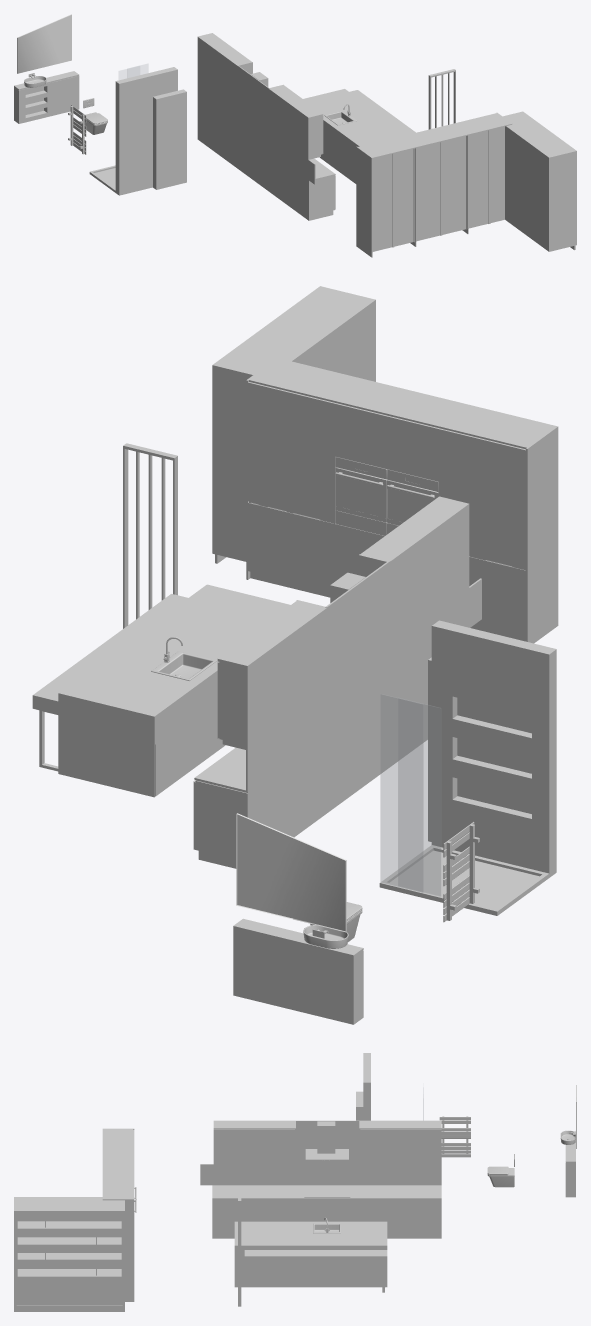
The model's file is EB03__Storey__GroundFloor__ProposedFixtures__MeshModel__.glb.
3 renders of one model, top to bottom at view 1: azimuth 30°, elevation 25°; view 2: azimuth 150°, elevation 25°; view 3: azimuth 270°, elevation 25°, orthographic. The views are drawn at different scales.
Visible parts, largest first — view 1: 27__ProposedBuilding__Fixtures::Default, 17__ExistingBuilding__Fixtures::Default, 17__ExistingBuilding__Fixtures::MAT140__Mirror__ClearDefault, 01__ModelFlag__BuildingJoinLines::Default; view 2: 27__ProposedBuilding__Fixtures::Default, 27__ProposedBuilding__Fixtures::MAT101__Glass__ClearDefault, 17__ExistingBuilding__Fixtures::Default, 17__ExistingBuilding__Fixtures::MAT140__Mirror__ClearDefault, 27_1003__KitchenAppliance__StandardOven__WithWarmingDrawer__ (×2); view 3: 27__ProposedBuilding__Fixtures::Default, 27__ProposedBuilding__Fixtures::MAT01509_-_KitchenAppliance_, 17__ExistingBuilding__Fixtures::Default.
Part boxes in pixels (<box>): 27__ProposedBuilding__Fixtures::Default: <box>14,33,576,257</box>; 17__ExistingBuilding__Fixtures::Default: <box>14,76,107,134</box>; 17__ExistingBuilding__Fixtures::MAT140__Mirror__ClearDefault: <box>17,14,71,73</box>; 01__ModelFlag__BuildingJoinLines::Default: <box>153,89,186,189</box>; 27__ProposedBuilding__Fixtures::Default: <box>32,286,558,957</box>; 27__ProposedBuilding__Fixtures::MAT101__Glass__ClearDefault: <box>380,694,440,896</box>; 17__ExistingBuilding__Fixtures::Default: <box>233,902,363,1024</box>; 17__ExistingBuilding__Fixtures::MAT140__Mirror__ClearDefault: <box>236,813,346,932</box>; 27_1003__KitchenAppliance__StandardOven__WithWarmingDrawer__ (×2): <box>335,457,438,535</box>; 27__ProposedBuilding__Fixtures::Default: <box>14,1053,575,1311</box>; 27__ProposedBuilding__Fixtures::MAT01509_-_KitchenAppliance_: <box>305,1121,348,1161</box>; 17__ExistingBuilding__Fixtures::Default: <box>487,1154,575,1197</box>.
Size of the model in its own units: 6.76 by 2.49 by 11.05.
Materials: 3 (1 with a texture image).
